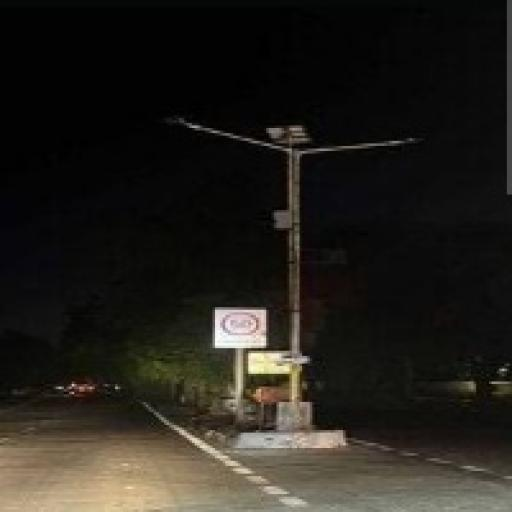Not Working: (260, 121, 321, 154), (384, 129, 430, 159), (157, 107, 200, 137)
